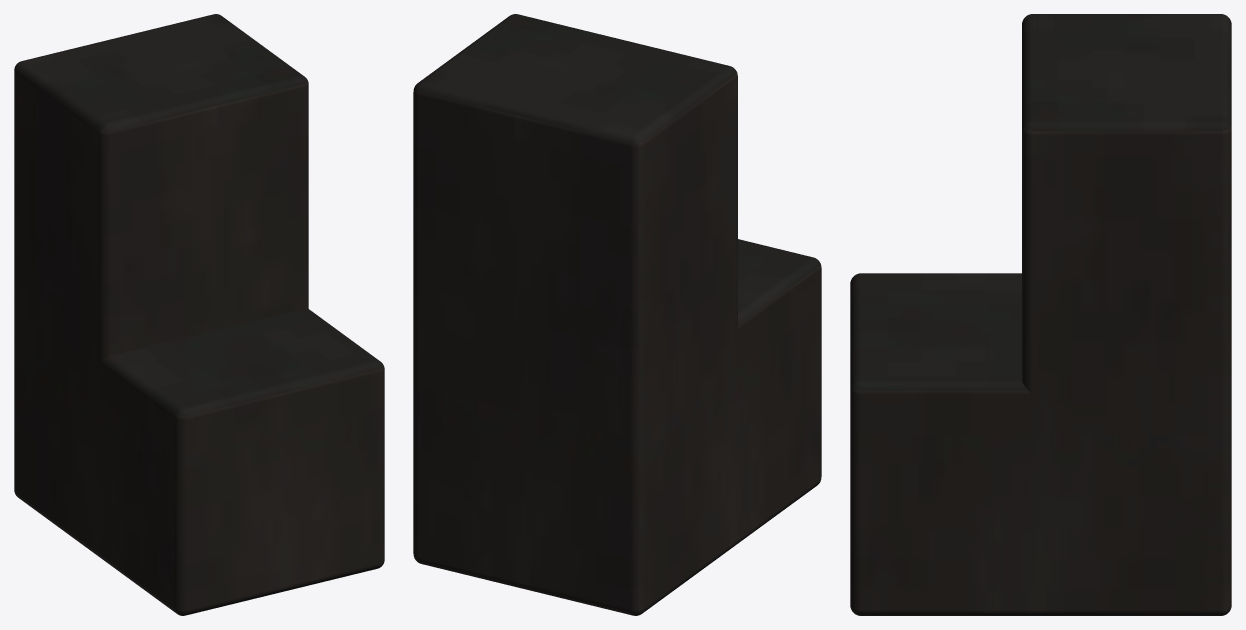
The model's file is Rez_Jezdec_cerny.glb.
3 renders of one model, left to right at view 1: azimuth 30°, elevation 25°; view 2: azimuth 150°, elevation 25°; view 3: azimuth 270°, elevation 25°, orthographic. The views are drawn at different scales.
Visible parts, largest first — view 1: Rez_Jezdec_cerny; view 2: Rez_Jezdec_cerny; view 3: Rez_Jezdec_cerny.
Part boxes in pixels (x1,y1,x2,y2): Rez_Jezdec_cerny: (14,14,384,615); Rez_Jezdec_cerny: (413,14,821,615); Rez_Jezdec_cerny: (850,14,1231,615).
Bounding box in the file's own units: 0.02 × 0.04 × 0.028.
Materials: 2 (2 with a texture image).
